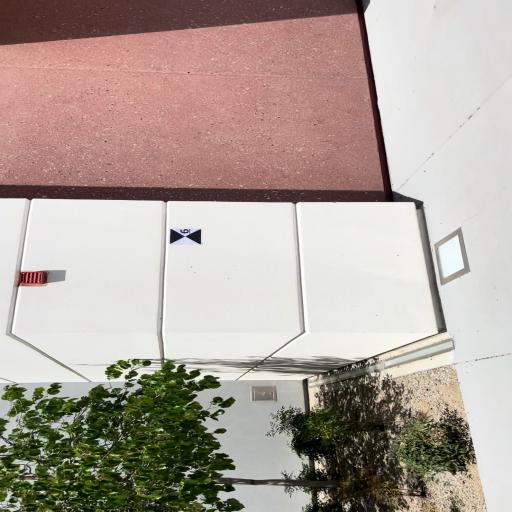target6: (168, 228, 204, 245)
